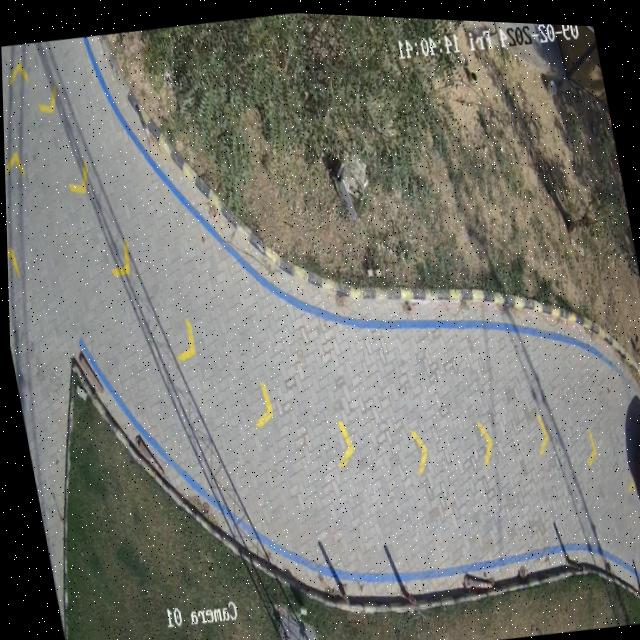car: (633, 431, 640, 498)
